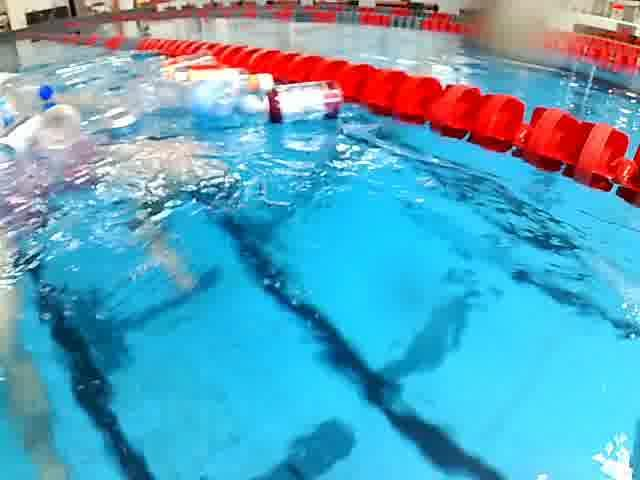Bottle: (38, 59, 142, 101), (0, 64, 62, 104), (182, 68, 279, 88)
Can: (239, 73, 361, 128), (0, 104, 90, 172), (150, 50, 213, 88), (100, 102, 149, 139)
